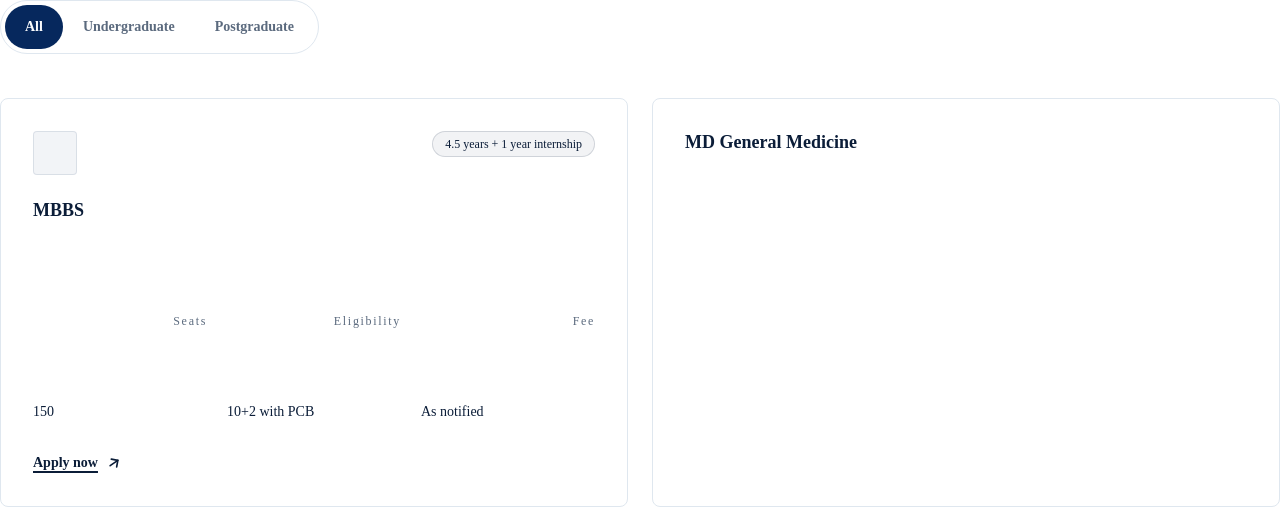
Academic Programmes client presentation › filters detailed cards and preserves their responsive fact layout
Expected: the element showing "Seats 150 Eligibility 10+2 with PCB Fee As notified" is shown, 33,246 -> 595,422
Click the tab "Postgraduate".
click(254, 27)  # box 195,5 -> 314,49
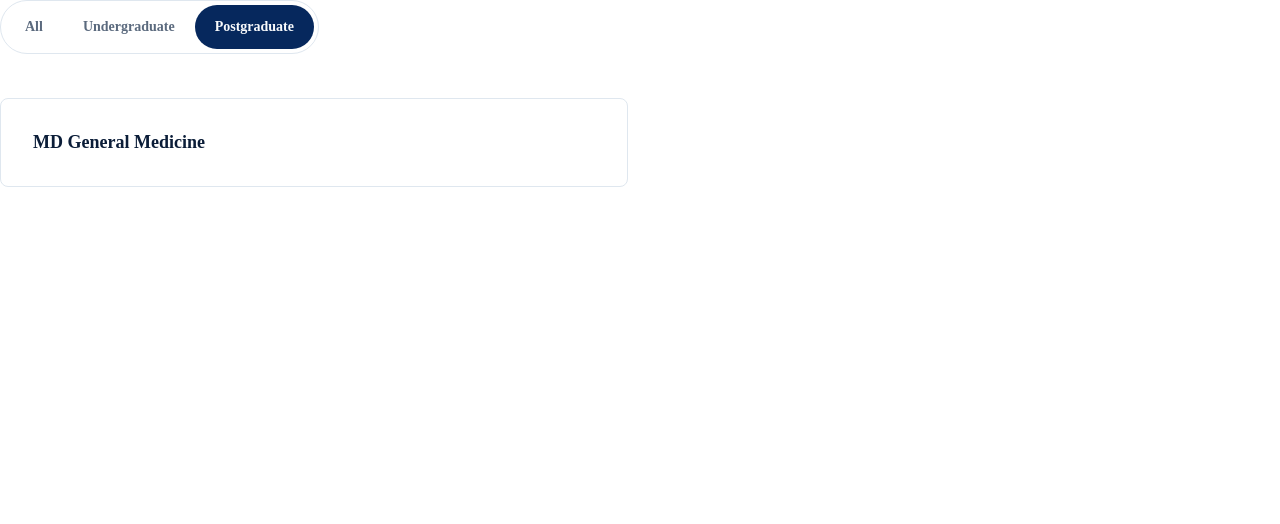
Expected: the heading "MD General Medicine" is shown, 33,132 -> 205,152
Now the link "MBBS" is gone
